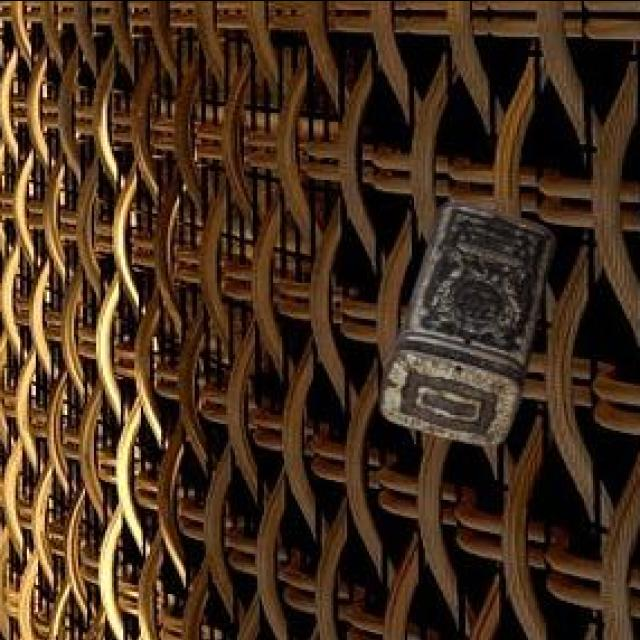logam: (384, 198, 558, 442)
